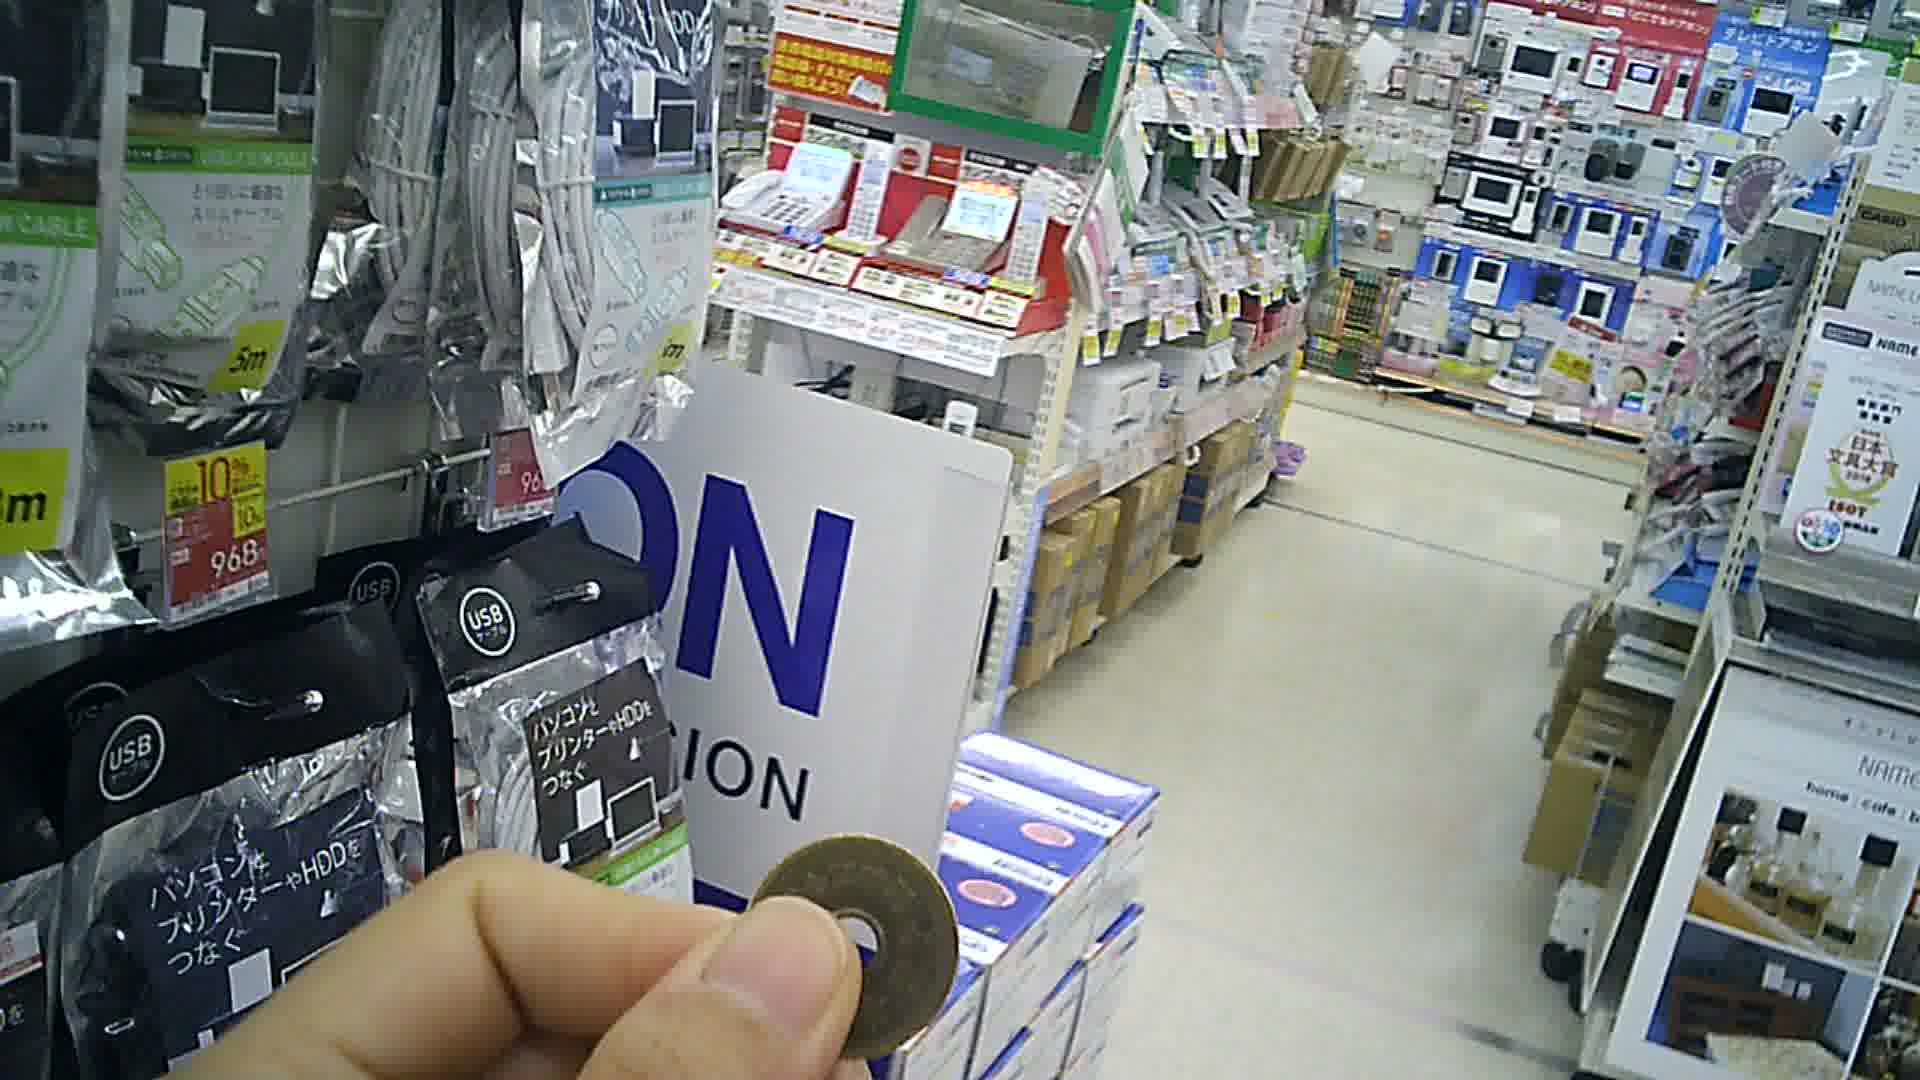5 Yen: (735, 828, 959, 1065)
